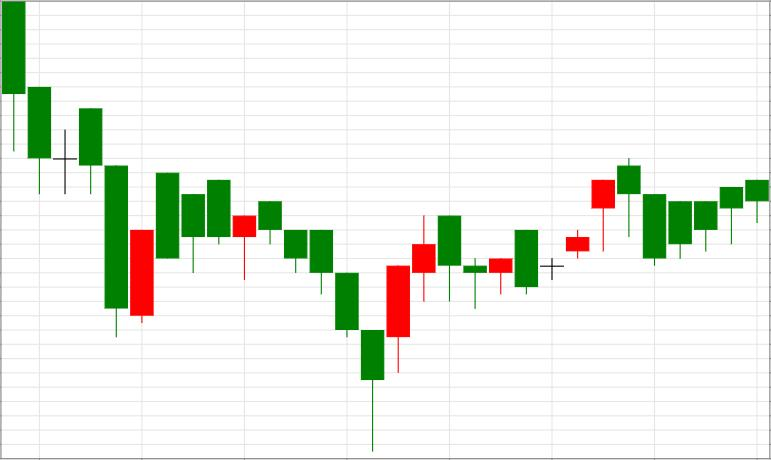hammer_rise: (258, 202, 384, 451)
